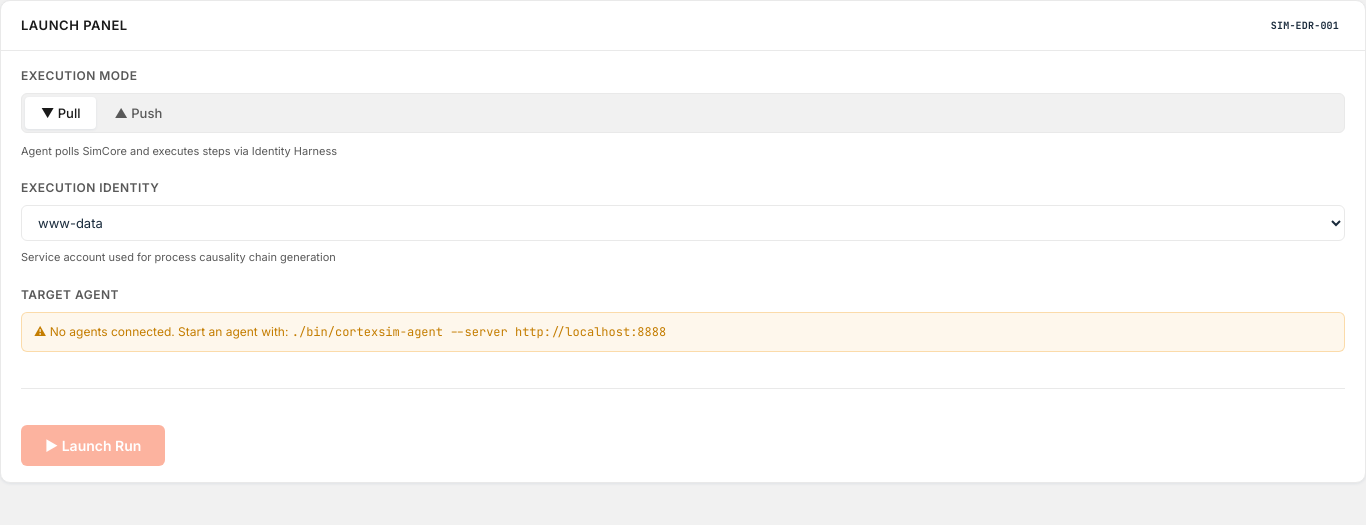
Test case: <LaunchPanel /> › switching to push mode hides agent picker and exposes format toggle
What coordinates should you click on to do the following:
click the button "▲ Push"
I would click on:
 (138, 113)
Its box is [98, 97, 178, 129].
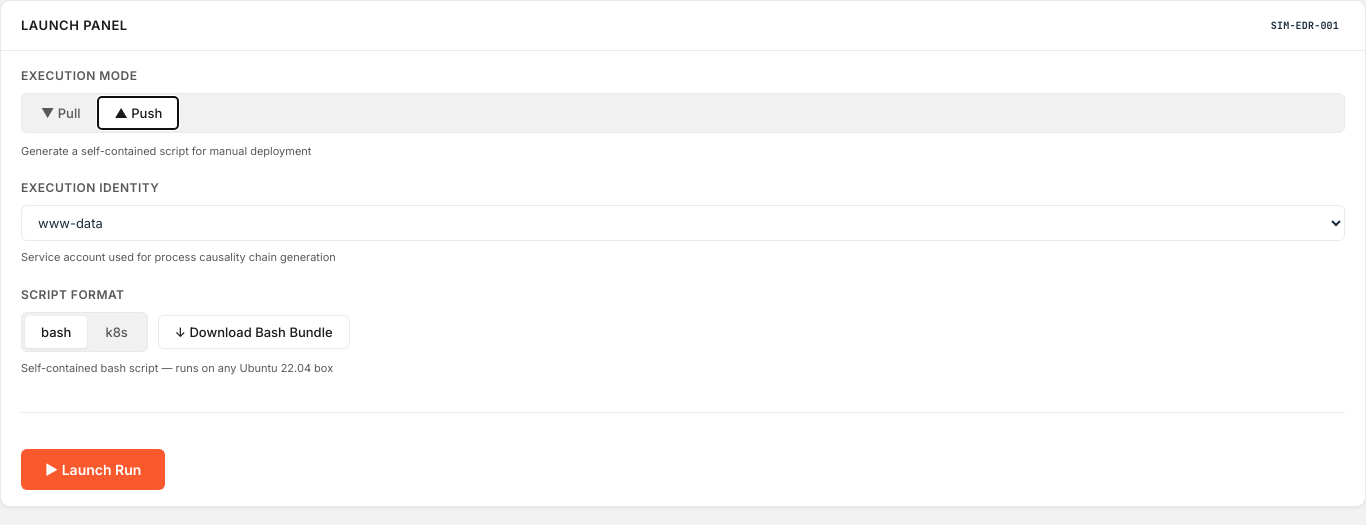
Expected: the button "bash" is shown, [25, 316, 87, 348]
Expected: the button "k8s" is shown, [89, 316, 144, 348]
Expected: the text "No agents connected" is gone
